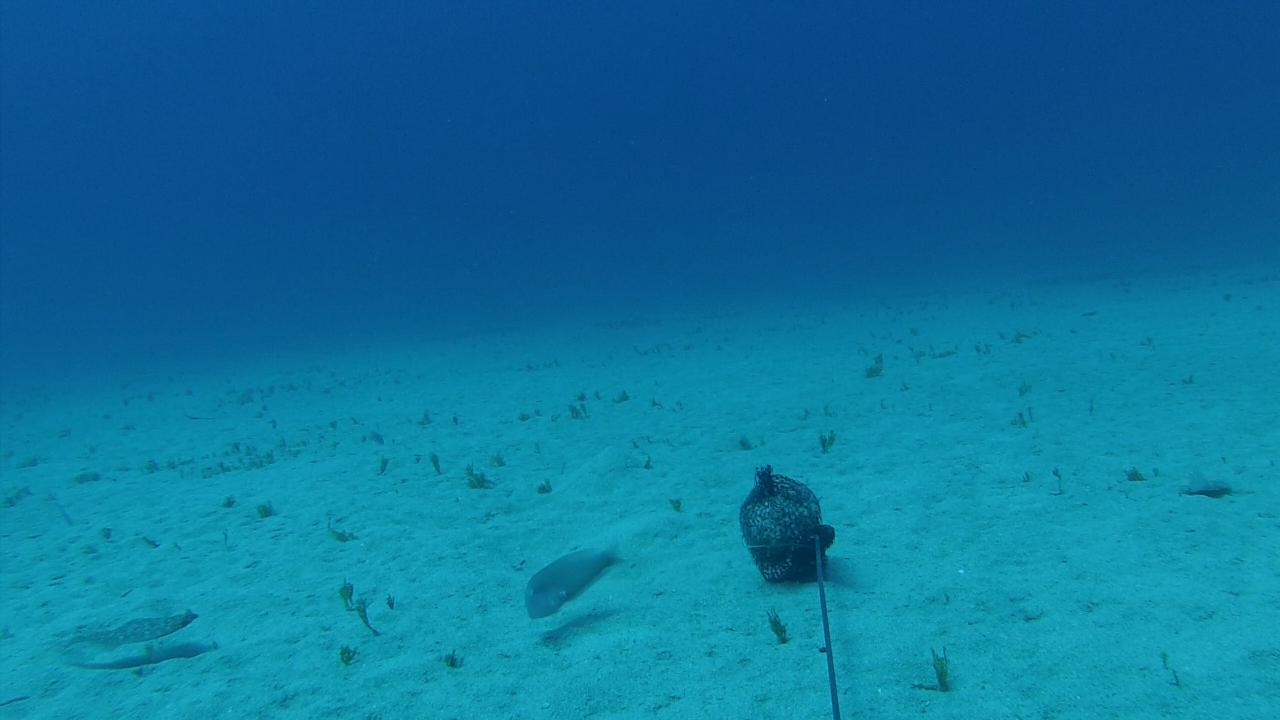bothus: (62, 608, 201, 650), (1171, 464, 1232, 496)
raor: (522, 538, 624, 624)
